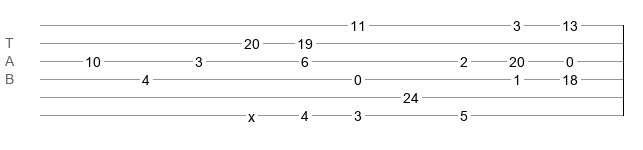0: (354, 72, 362, 82), (566, 54, 574, 64)
1: (513, 72, 521, 82)
10: (85, 54, 101, 64)
11: (350, 18, 366, 28)
13: (562, 18, 578, 28)
18: (562, 72, 578, 82)
19: (297, 36, 313, 46)
2: (460, 54, 468, 64)
20: (244, 36, 260, 46), (509, 54, 525, 64)
24: (403, 90, 419, 100)
3: (195, 54, 203, 64), (354, 108, 362, 118), (513, 18, 521, 28)
4: (142, 72, 150, 82), (301, 108, 309, 118)
5: (460, 108, 468, 118)
6: (301, 54, 309, 64)
x: (248, 109, 255, 117)
